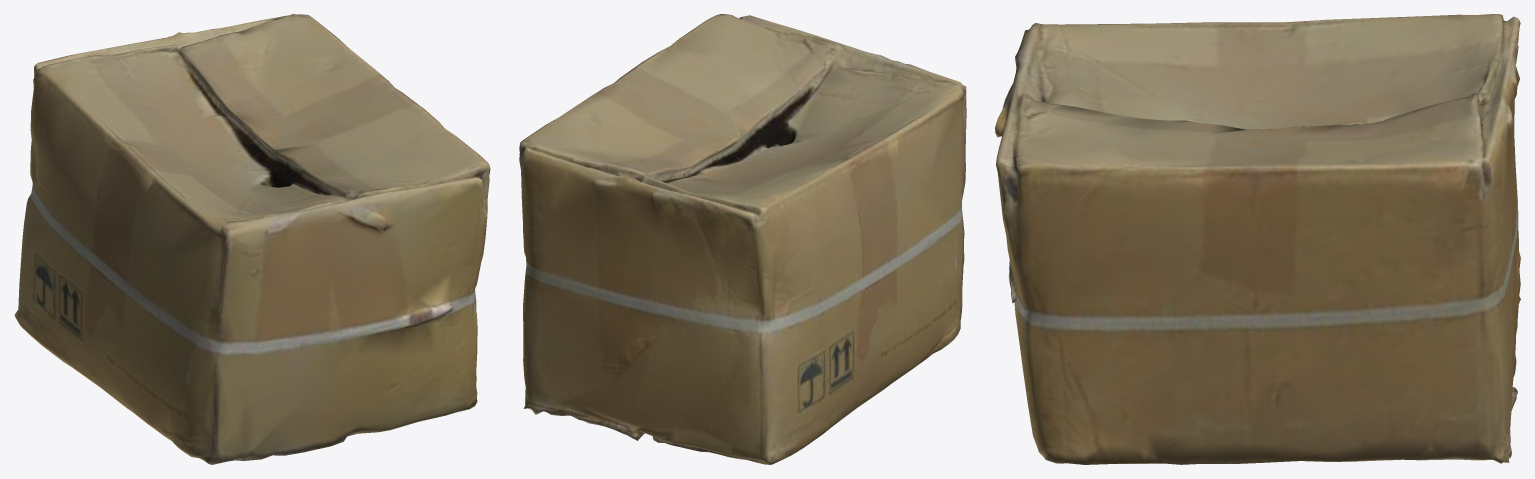
Rendered from cardboard_box_01.glb.
The picture shows the model from 3 angles, left to right: view 1: azimuth 30°, elevation 25°; view 2: azimuth 150°, elevation 25°; view 3: azimuth 270°, elevation 25°; orthographic projection. The views are drawn at different scales.
Visible parts, largest first — view 1: cardboard_box_01; view 2: cardboard_box_01; view 3: cardboard_box_01.
Boxes of the visible parts, bbox=[...] form: cardboard_box_01: bbox=[14, 14, 490, 464]; cardboard_box_01: bbox=[519, 14, 966, 464]; cardboard_box_01: bbox=[995, 14, 1520, 464].
Size of the model in its own units: 0.3868 by 0.3418 by 0.5159.
1 material, 1 textured.
